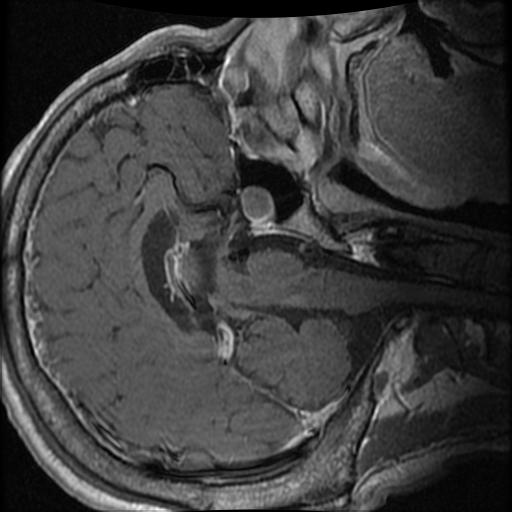pituitary tumour: (242, 189, 270, 221)
